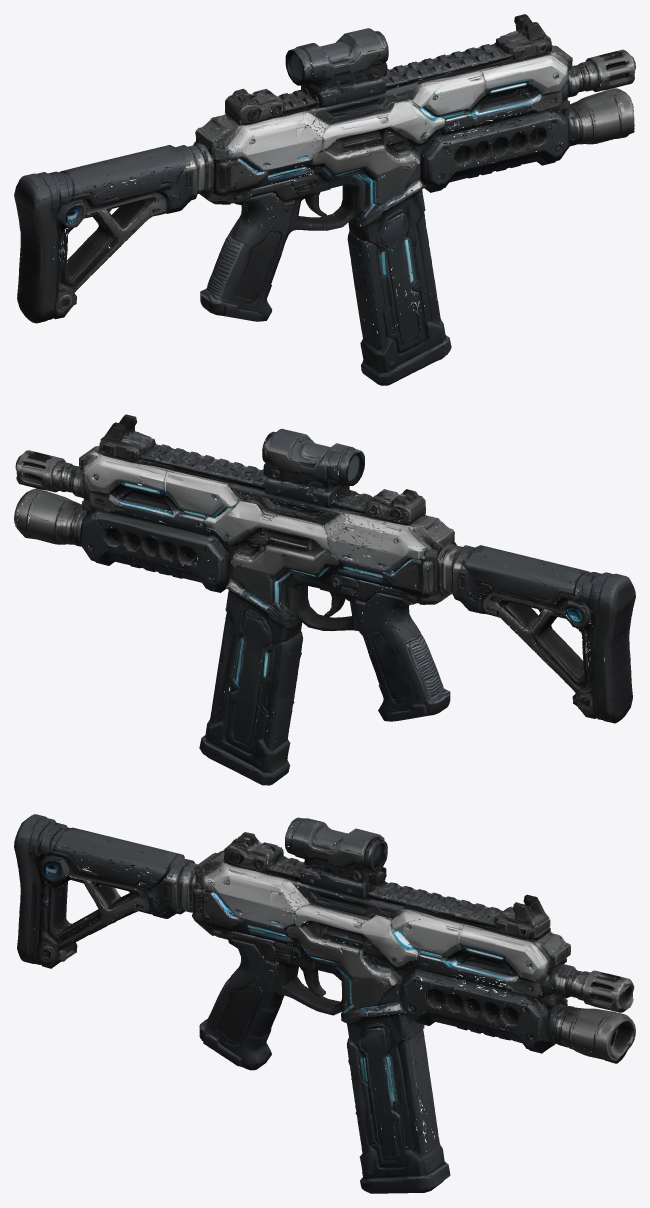
File: em57s1_viewmodel.glb
The picture shows the model from 3 angles, top to bottom: view 1: azimuth 30°, elevation 25°; view 2: azimuth 150°, elevation 25°; view 3: azimuth 330°, elevation 25°; orthographic projection.
Visible parts, largest first — view 1: node_0; view 2: node_0; view 3: node_0.
Part boxes in pixels (x1=…): node_0: x1=14, y1=14, x2=635, y2=385; node_0: x1=14, y1=414, x2=635, y2=785; node_0: x1=14, y1=814, x2=635, y2=1193.
Size of the model in its own units: 0.85 by 0.4705 by 0.0794.
1 material, 1 textured.
